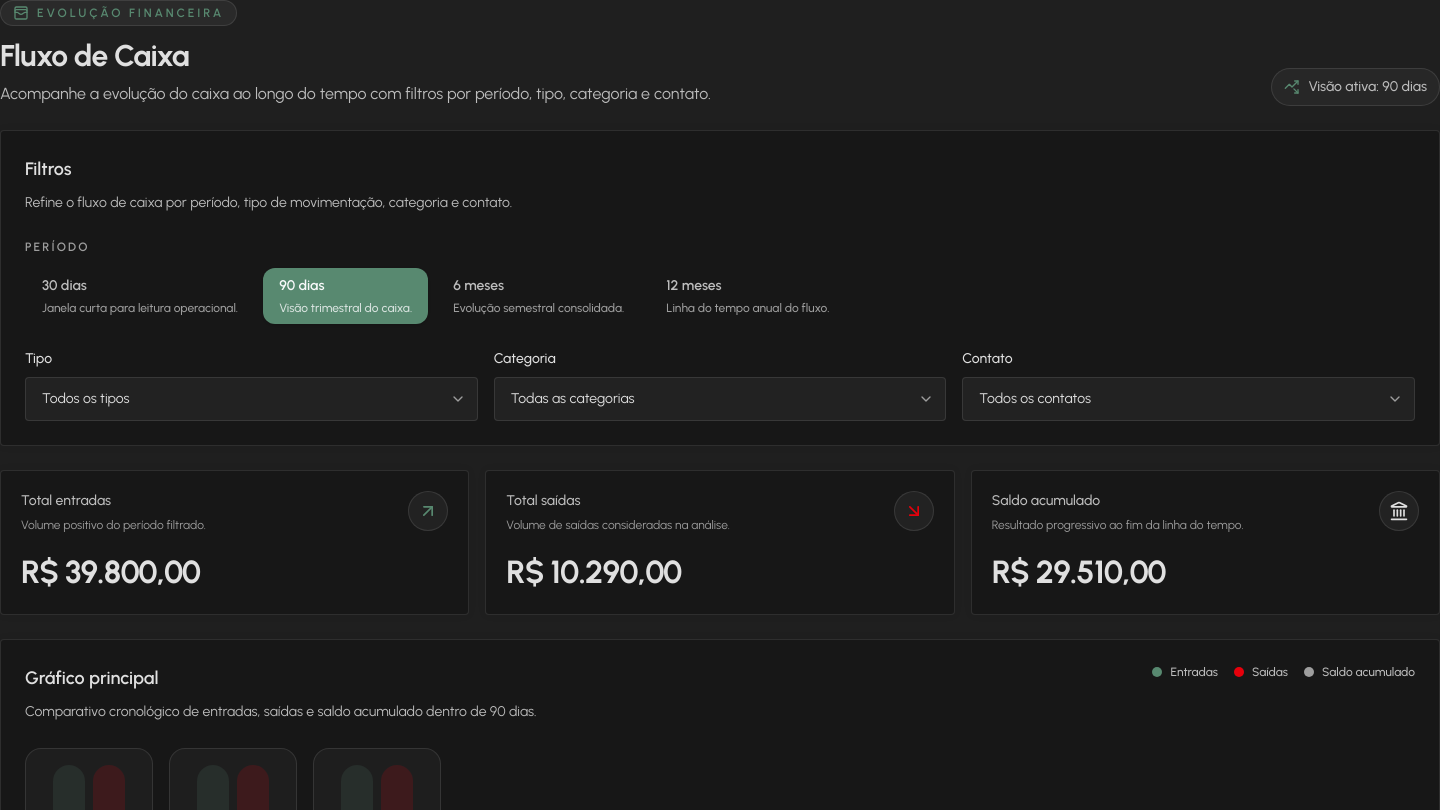
Test: <CashFlowPage /> › renderiza empty state quando os filtros removem todos os registros do período
Check: the element named "indicadores do fluxo de caixa" is shown, box [0,470,1439,615]
Select "Logus" in the dropdown labelled "Contato" at (1189,399), box [962,377,1415,421]
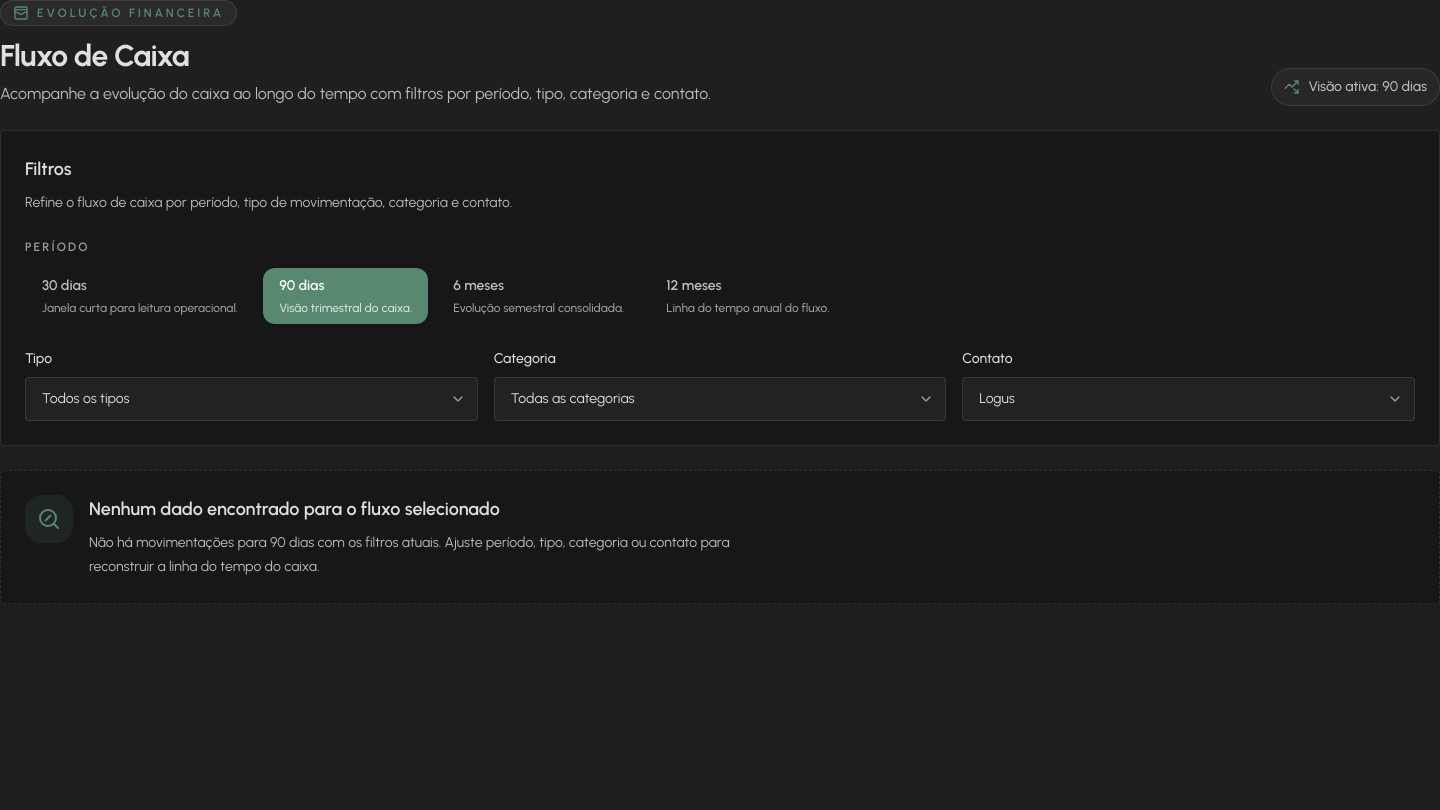
Check: the heading "Nenhum dado encontrado para o fluxo selecionado" is shown, box [89,498,500,520]
